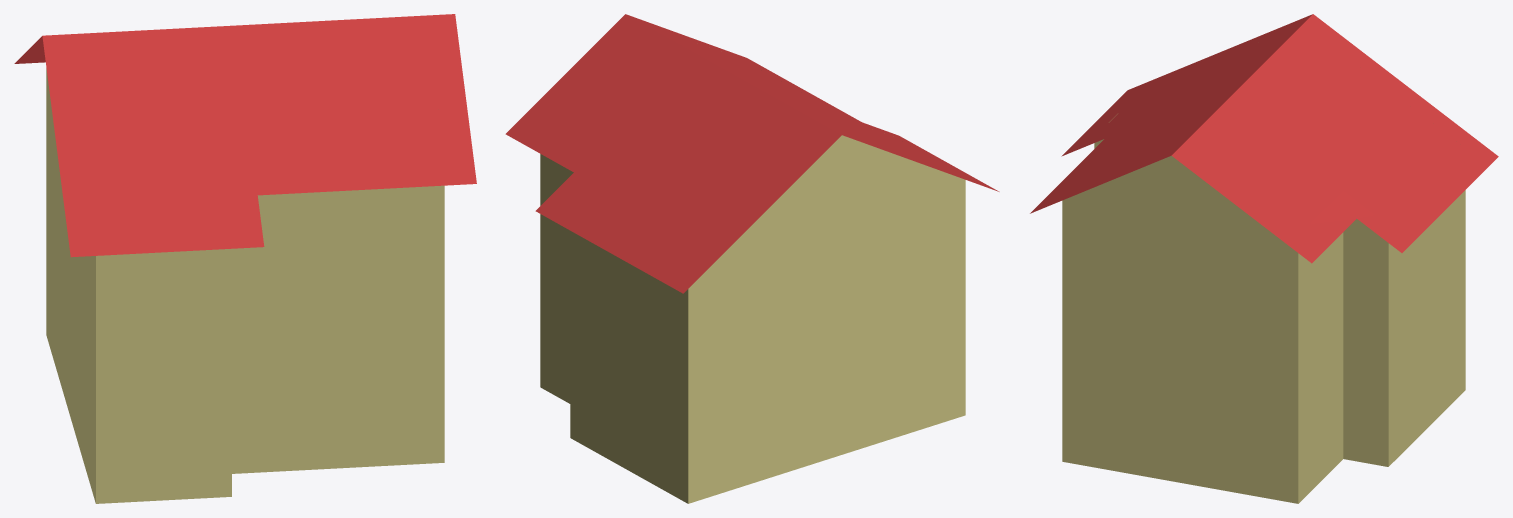
3 views of the same model, side by side, from view 1: azimuth 30°, elevation 25°; view 2: azimuth 150°, elevation 25°; view 3: azimuth 270°, elevation 25° (orthographic). The views are drawn at different scales.
Parts seen in each view (by area): view 1: group_5, group_3, group_4; view 2: group_5, group_3, group_4; view 3: group_5, group_3, group_4.
Part boxes in pixels (left/top/right/bottom): group_5: left=46, top=68, right=444, bottom=503; group_3: left=14, top=14, right=475, bottom=256; group_4: left=18, top=14, right=476, bottom=257; group_5: left=540, top=135, right=965, bottom=503; group_3: left=505, top=14, right=998, bottom=293; group_4: left=559, top=14, right=998, bottom=293; group_5: left=1062, top=114, right=1465, bottom=503; group_3: left=1063, top=14, right=1497, bottom=263; group_4: left=1030, top=14, right=1498, bottom=223.
Size of the model in its own units: 14 by 13.89 by 11.01.
